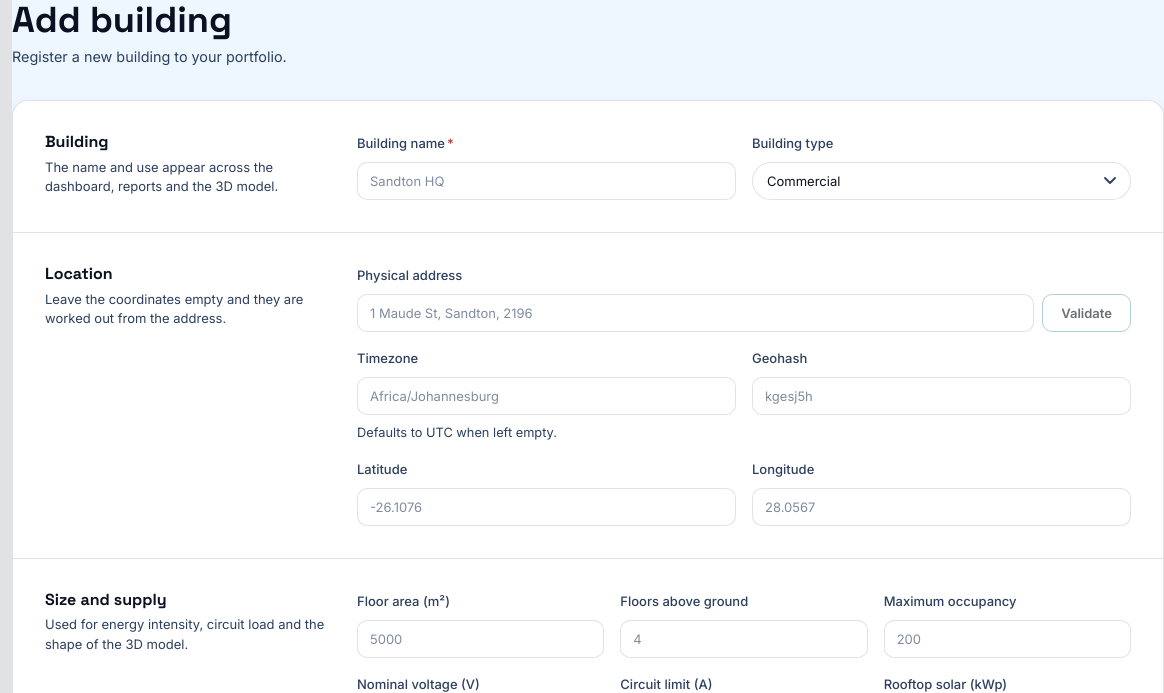
Test: AddBuildingPage › Initial render › Validation › shows error when building name is only 1 character
The width and height of the screenshot is (1164, 693).
Type "A" into the field with id "building_name".
click(546, 181); type("A")  # box [357,162,736,200]
(page scrolled)
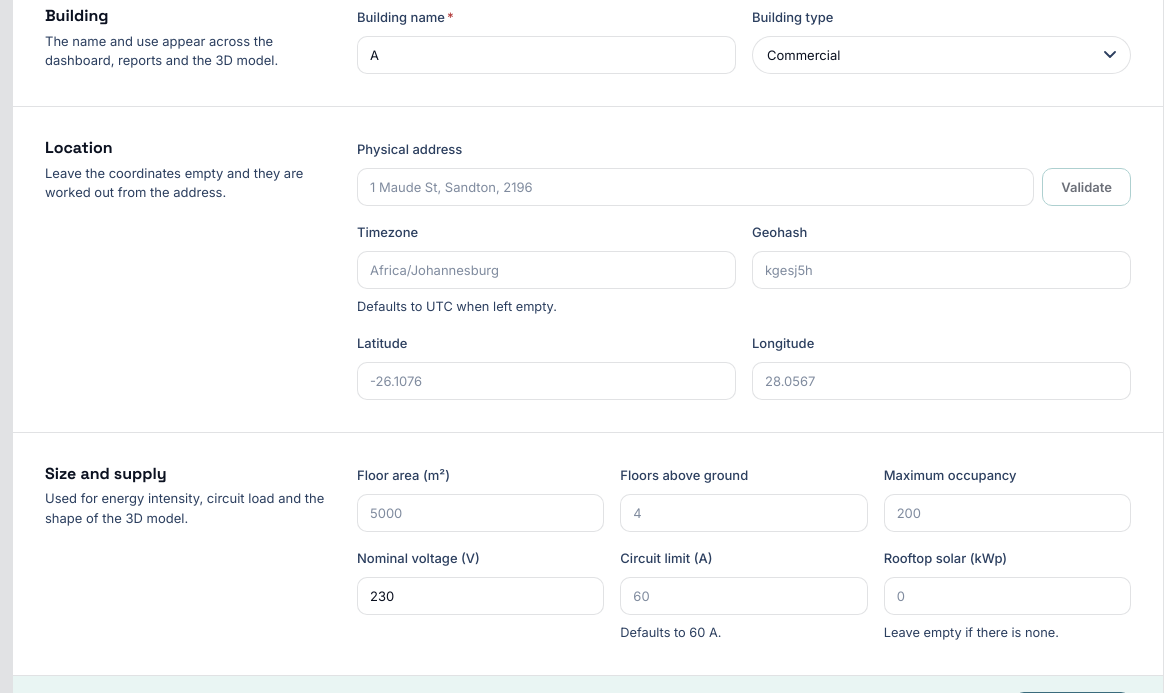
Submit the form
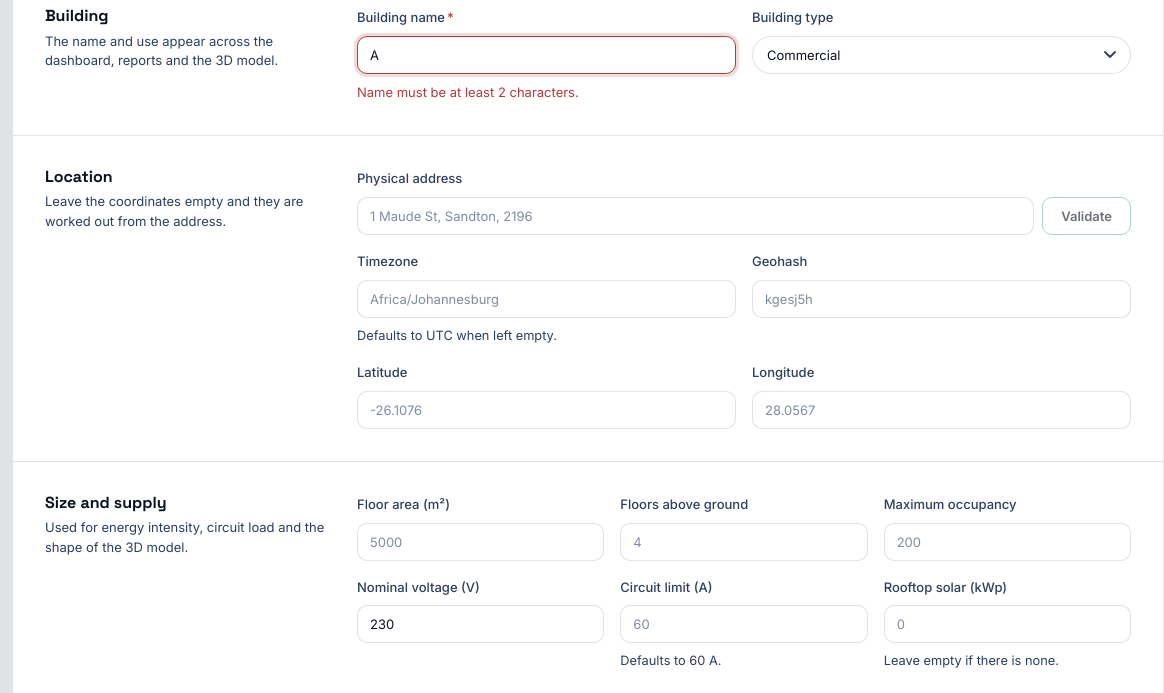
Check: the text "Name must be at least 2 characters." is shown, box [357,84,579,100]
